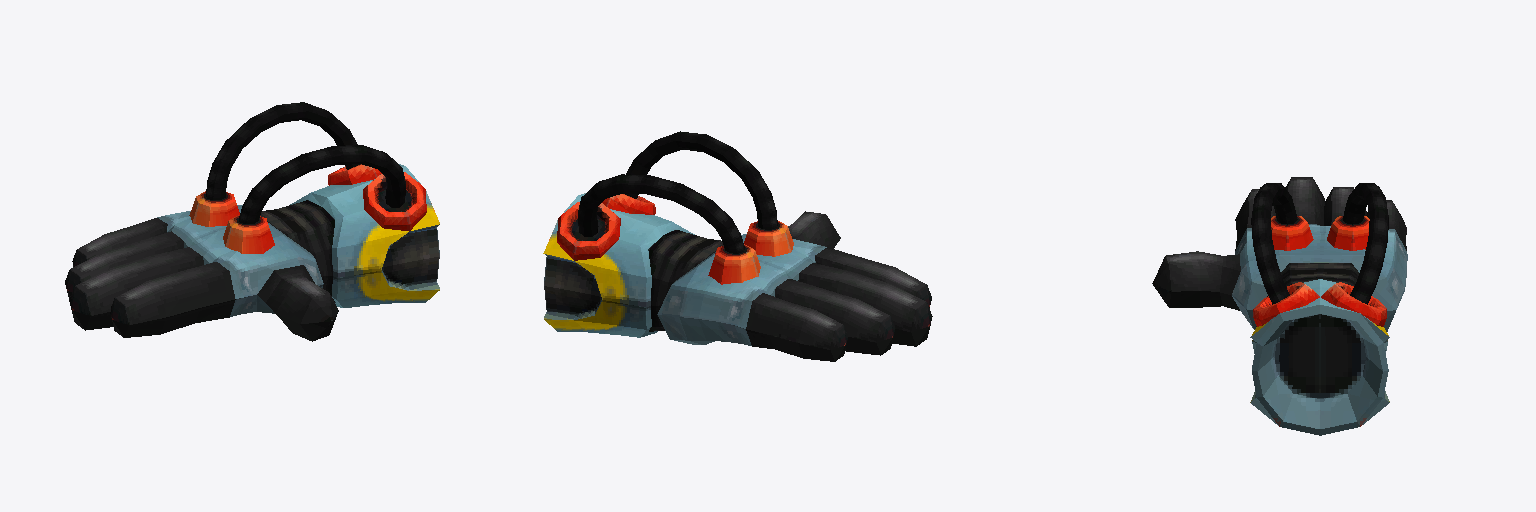
The picture shows the model from 3 angles: view 1: azimuth 30°, elevation 25°; view 2: azimuth 150°, elevation 25°; view 3: azimuth 270°, elevation 25°; orthographic projection.
Parts seen in each view (by area): view 1: Mesh0; view 2: Mesh0; view 3: Mesh0.
Part boxes in pixels (bbox=[...]): Mesh0: bbox=[65, 102, 439, 341]; Mesh0: bbox=[543, 131, 932, 361]; Mesh0: bbox=[1152, 177, 1407, 435].
Size of the model in its own units: 20.22 by 10.86 by 12.96.
1 materials, 1 textured.